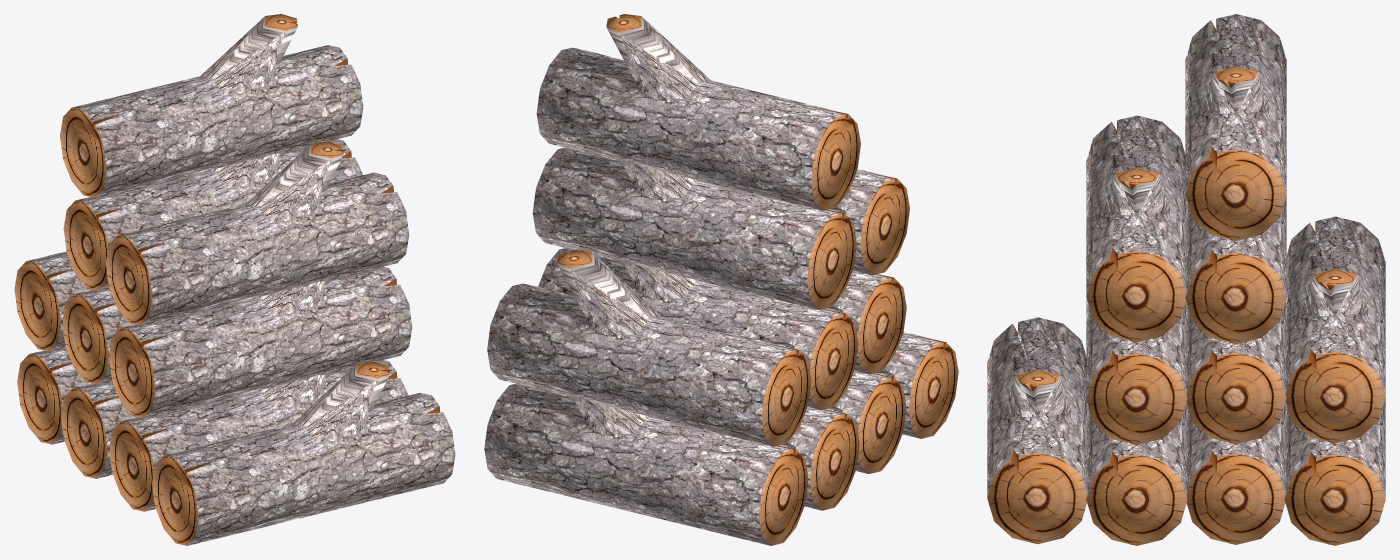
Rendered from LogPile_Poplar.glb.
The picture shows the model from 3 angles, left to right: view 1: azimuth 30°, elevation 25°; view 2: azimuth 150°, elevation 25°; view 3: azimuth 270°, elevation 25°; orthographic projection. The views are drawn at different scales.
Parts seen in each view (by area): view 1: LogPile_Poplar; view 2: LogPile_Poplar; view 3: LogPile_Poplar.
Part boxes in pixels (bbox=[...]): LogPile_Poplar: bbox=[14, 14, 455, 545]; LogPile_Poplar: bbox=[484, 14, 958, 545]; LogPile_Poplar: bbox=[987, 14, 1385, 545].
Size of the model in its own units: 3.43 by 5.1 by 4.2.
2 materials, 2 textured.
